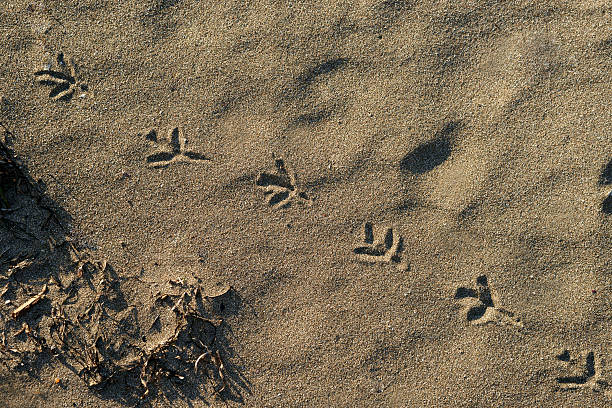animal_foot_print: (454, 275, 522, 326), (255, 158, 311, 208), (146, 127, 211, 167), (34, 53, 87, 100), (353, 222, 407, 268), (556, 349, 609, 390), (598, 160, 611, 187)
